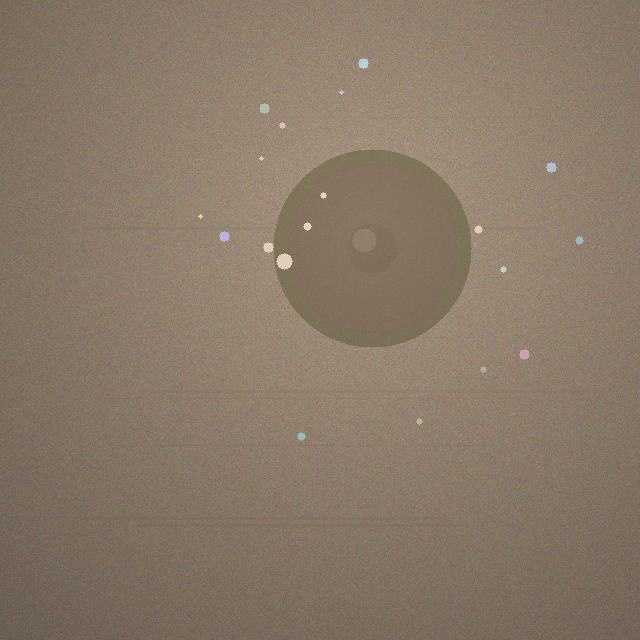overburn: (273, 149, 471, 347)
